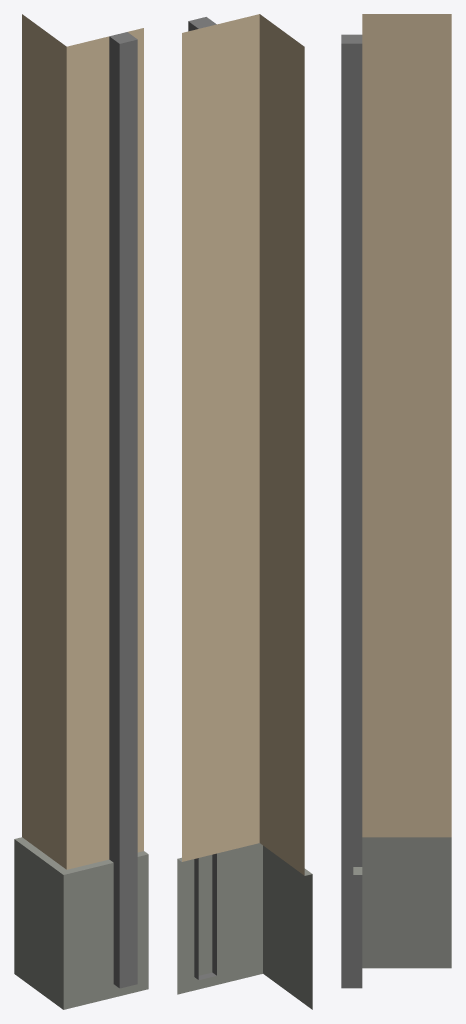
The picture shows the model from 3 angles, left to right: view 1: azimuth 30°, elevation 25°; view 2: azimuth 210°, elevation 25°; view 3: azimuth 270°, elevation 25°; orthographic projection.
Visible parts, largest first — view 1: a2000/400/base-c1; view 2: a2000/400/base-c1; view 3: a2000/400/base-c1.
Part boxes in pixels (bbox=[...]): a2000/400/base-c1: bbox=[14, 14, 148, 1009]; a2000/400/base-c1: bbox=[177, 14, 312, 1009]; a2000/400/base-c1: bbox=[341, 14, 451, 988].
Bounding box in the file's own units: 0.33 × 3.55 × 0.37.
